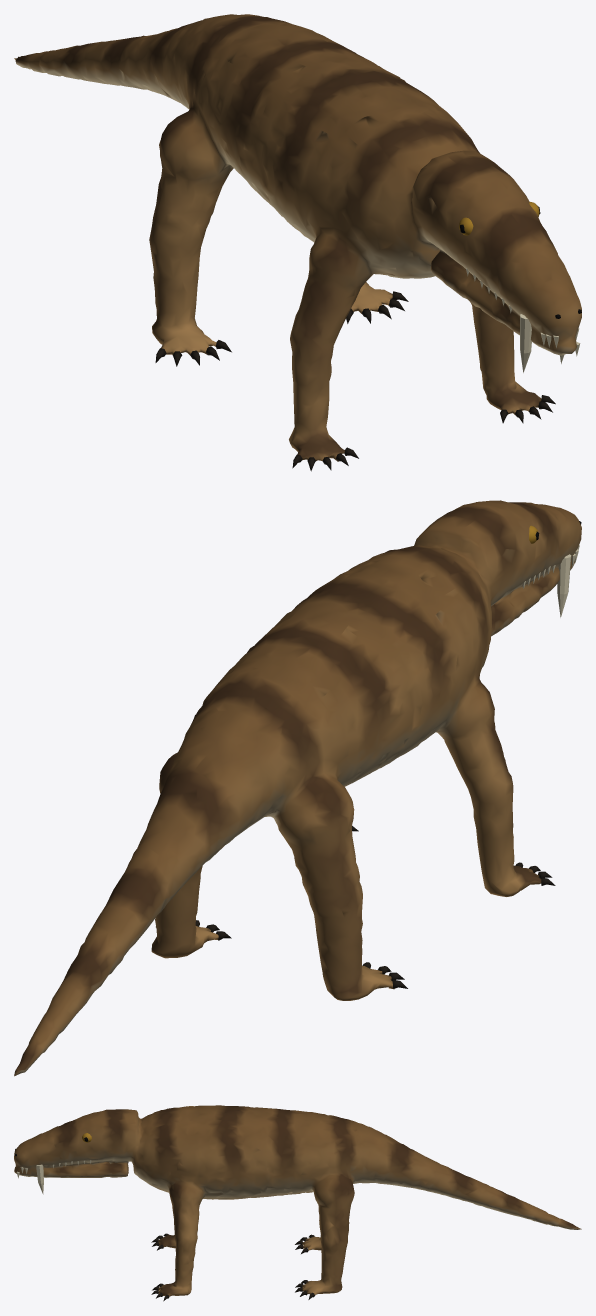
The model's file is Gorgonops.fbx.
The picture shows the model from 3 angles, top to bottom: view 1: azimuth 30°, elevation 25°; view 2: azimuth 150°, elevation 25°; view 3: azimuth 270°, elevation 25°; orthographic projection. The views are drawn at different scales.
Parts seen in each view (by area): view 1: Gorgonops; view 2: Gorgonops; view 3: Gorgonops.
Part boxes in pixels (x1=…): Gorgonops: x1=14, y1=14, x2=581, y2=471; Gorgonops: x1=14, y1=500, x2=581, y2=1076; Gorgonops: x1=14, y1=1105, x2=581, y2=1301.
Size of the model in its own units: 0.5029 by 0.5721 by 1.84.
